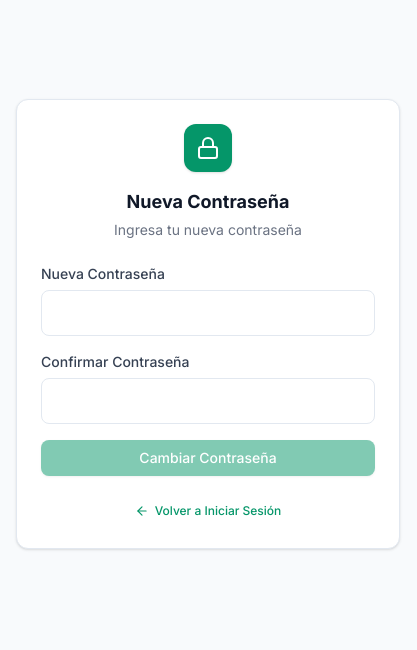
ResetPasswordPage › muestra el error de la API
In the 1st password field: (208, 313) [41,290,375,336], type "Abcdef12"
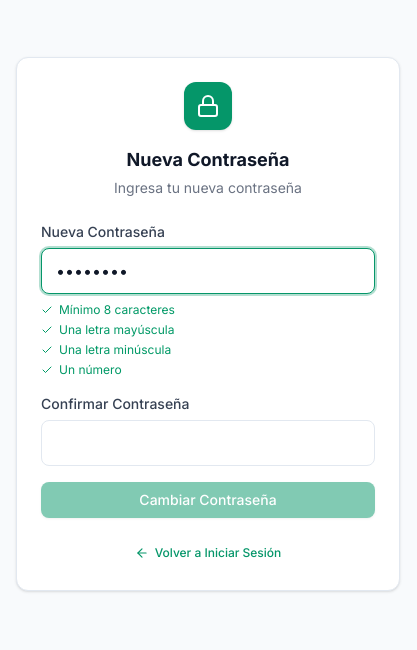
In the password field below "Confirmar Contraseña": (208, 443) [41,420,375,466], type "Abcdef12"
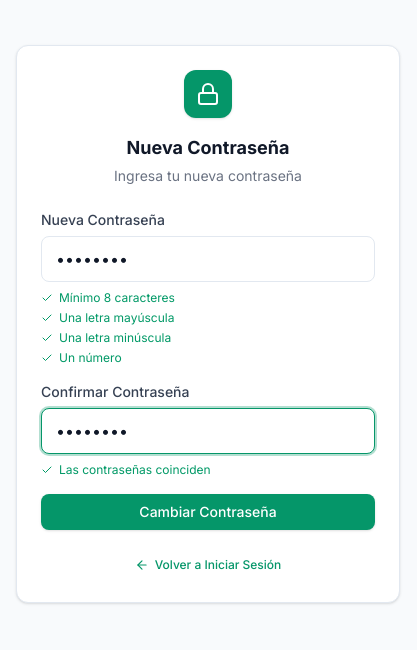
Click the button "Cambiar Contraseña": (208, 512) [41,494,375,530]
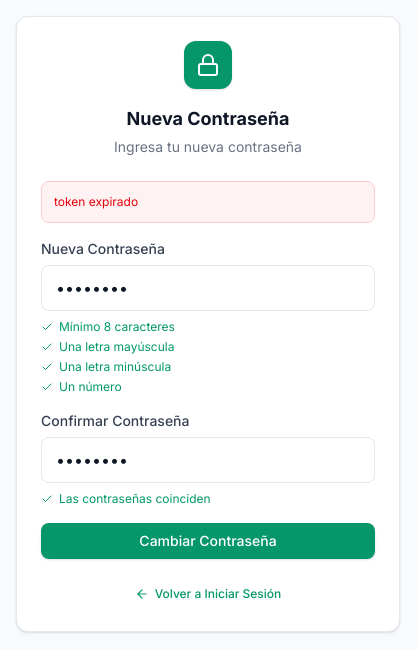
Expected: the text "token expirado" is shown, [41,181,375,223]
